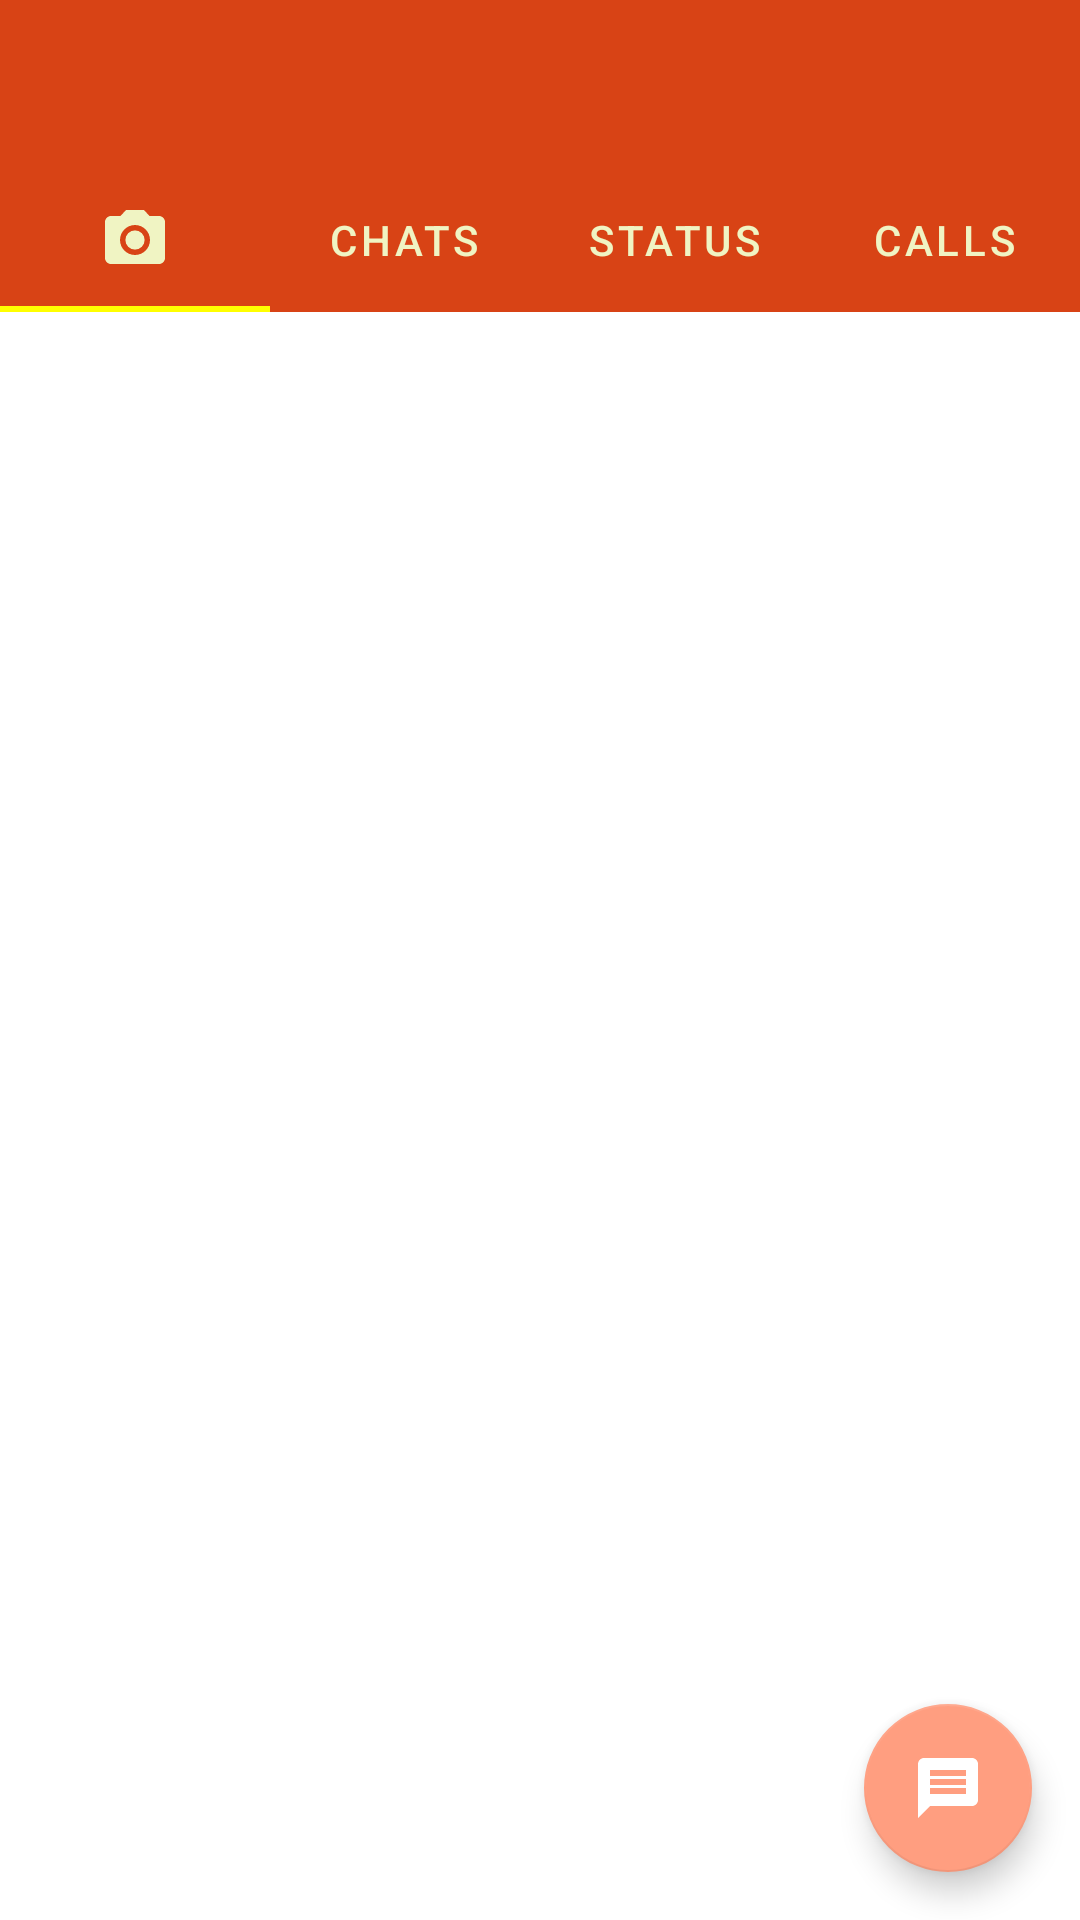

Icons on this 1080*1920 Android screen, each with the point to tap as point (x, y):
message: point (948, 1788)
